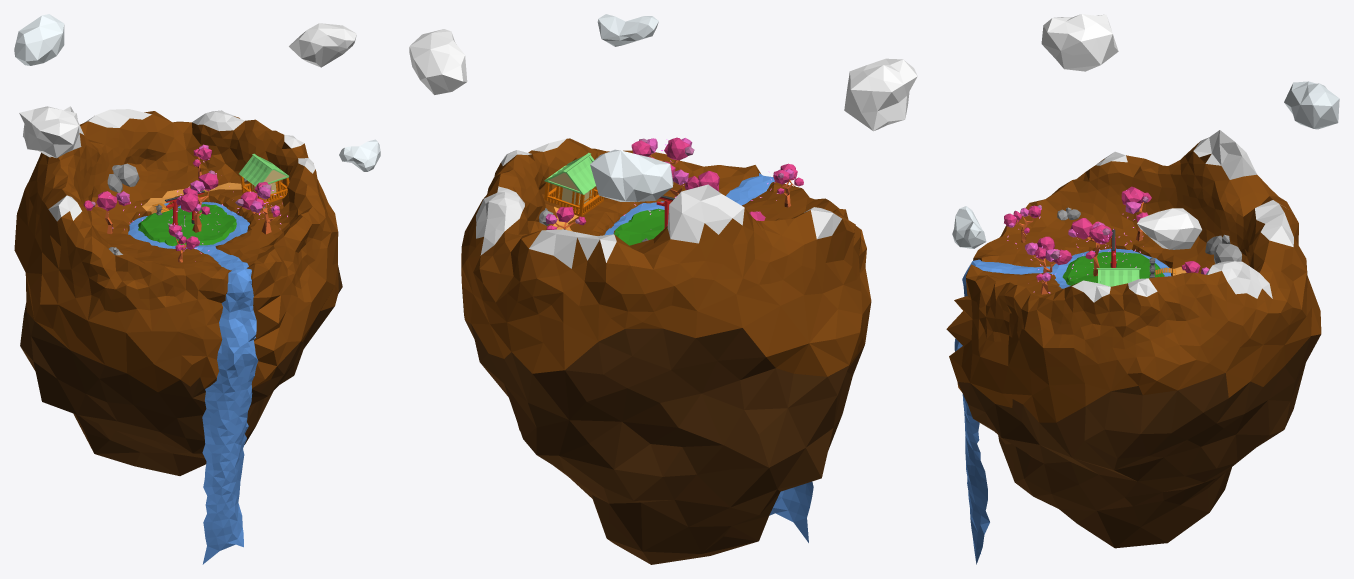
Rendered from isla_agua.glb.
3 views of the same model, side by side, from view 1: azimuth 30°, elevation 25°; view 2: azimuth 150°, elevation 25°; view 3: azimuth 270°, elevation 25° (orthographic). The views are drawn at different scales.
Visible parts, largest first — view 1: Isla_Terreno-Base_0, Isla_Terreno- Roca_0, Agua_Agua_0, Icosphere.001__0, Icosphere_Cloud_0, Isla_Terreno - Verde_0, Isla_Terreno- Nieve_0, Hojas.001_Arbol - Hoja1_0, Casa_Tejado_0, Hojas.001_Arbol - Hoja2_0, Tronco2_Arbol- Tronco1_0, Isla_Terreno- Camino_0 (+2 smaller); view 2: Isla_Terreno-Base_0, Isla_Terreno- Roca_0, Isla_Terreno- Nieve_0, Icosphere.001__0, Icosphere_Cloud_0, Agua_Agua_0, Hojas.001_Arbol - Hoja1_0, Isla_Terreno - Verde_0, Casa_Tejado_0, Cube_maderaCasa_0; view 3: Isla_Terreno-Base_0, Isla_Terreno- Roca_0, Icosphere.001__0, Isla_Terreno- Nieve_0, Agua_Agua_0, Icosphere_Cloud_0, Hojas.001_Arbol - Hoja1_0, Isla_Terreno - Verde_0, Hojas.001_Arbol - Hoja2_0, Casa_Tejado_0, Roca_Roca_0, Tronco2_Arbol- Tronco1_0.
Part boxes in pixels (bbox=[...]): Isla_Terreno-Base_0: bbox=[14, 111, 338, 392]; Isla_Terreno- Roca_0: bbox=[20, 265, 342, 475]; Agua_Agua_0: bbox=[128, 202, 258, 564]; Icosphere.001__0: bbox=[19, 23, 356, 158]; Icosphere_Cloud_0: bbox=[14, 14, 380, 171]; Isla_Terreno - Verde_0: bbox=[138, 204, 236, 246]; Isla_Terreno- Nieve_0: bbox=[48, 106, 315, 221]; Hojas.001_Arbol - Hoja1_0: bbox=[83, 147, 280, 250]; Casa_Tejado_0: bbox=[239, 153, 288, 186]; Hojas.001_Arbol - Hoja2_0: bbox=[116, 144, 279, 243]; Tronco2_Arbol- Tronco1_0: bbox=[94, 153, 275, 262]; Isla_Terreno- Camino_0: bbox=[142, 182, 250, 213]; Isla_Terreno-Base_0: bbox=[461, 138, 871, 376]; Isla_Terreno- Roca_0: bbox=[462, 293, 864, 564]; Isla_Terreno- Nieve_0: bbox=[476, 139, 841, 268]; Icosphere.001__0: bbox=[409, 29, 917, 131]; Icosphere_Cloud_0: bbox=[590, 14, 673, 201]; Agua_Agua_0: bbox=[604, 173, 813, 542]; Hojas.001_Arbol - Hoja1_0: bbox=[546, 137, 803, 229]; Isla_Terreno - Verde_0: bbox=[614, 208, 664, 245]; Casa_Tejado_0: bbox=[544, 152, 595, 194]; Cube_maderaCasa_0: bbox=[544, 182, 603, 216]; Isla_Terreno-Base_0: bbox=[946, 141, 1321, 422]; Isla_Terreno- Roca_0: bbox=[957, 334, 1320, 548]; Icosphere.001__0: bbox=[1041, 14, 1201, 249]; Isla_Terreno- Nieve_0: bbox=[1072, 130, 1293, 302]; Agua_Agua_0: bbox=[954, 248, 1171, 564]; Icosphere_Cloud_0: bbox=[952, 81, 1339, 248]; Hojas.001_Arbol - Hoja1_0: bbox=[1004, 186, 1200, 280]; Isla_Terreno - Verde_0: bbox=[1062, 252, 1164, 285]; Hojas.001_Arbol - Hoja2_0: bbox=[1008, 201, 1209, 281]; Casa_Tejado_0: bbox=[1096, 268, 1140, 286]; Roca_Roca_0: bbox=[1057, 207, 1241, 263]; Tronco2_Arbol- Tronco1_0: bbox=[1016, 202, 1143, 294].
Size of the model in its own units: 1406 by 1665 by 1225.
